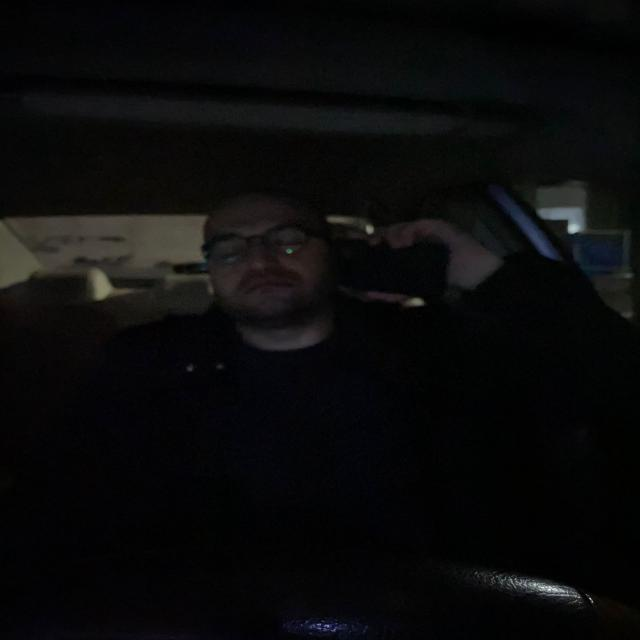mobile: (342, 236, 457, 303)
person: (192, 192, 341, 337)
